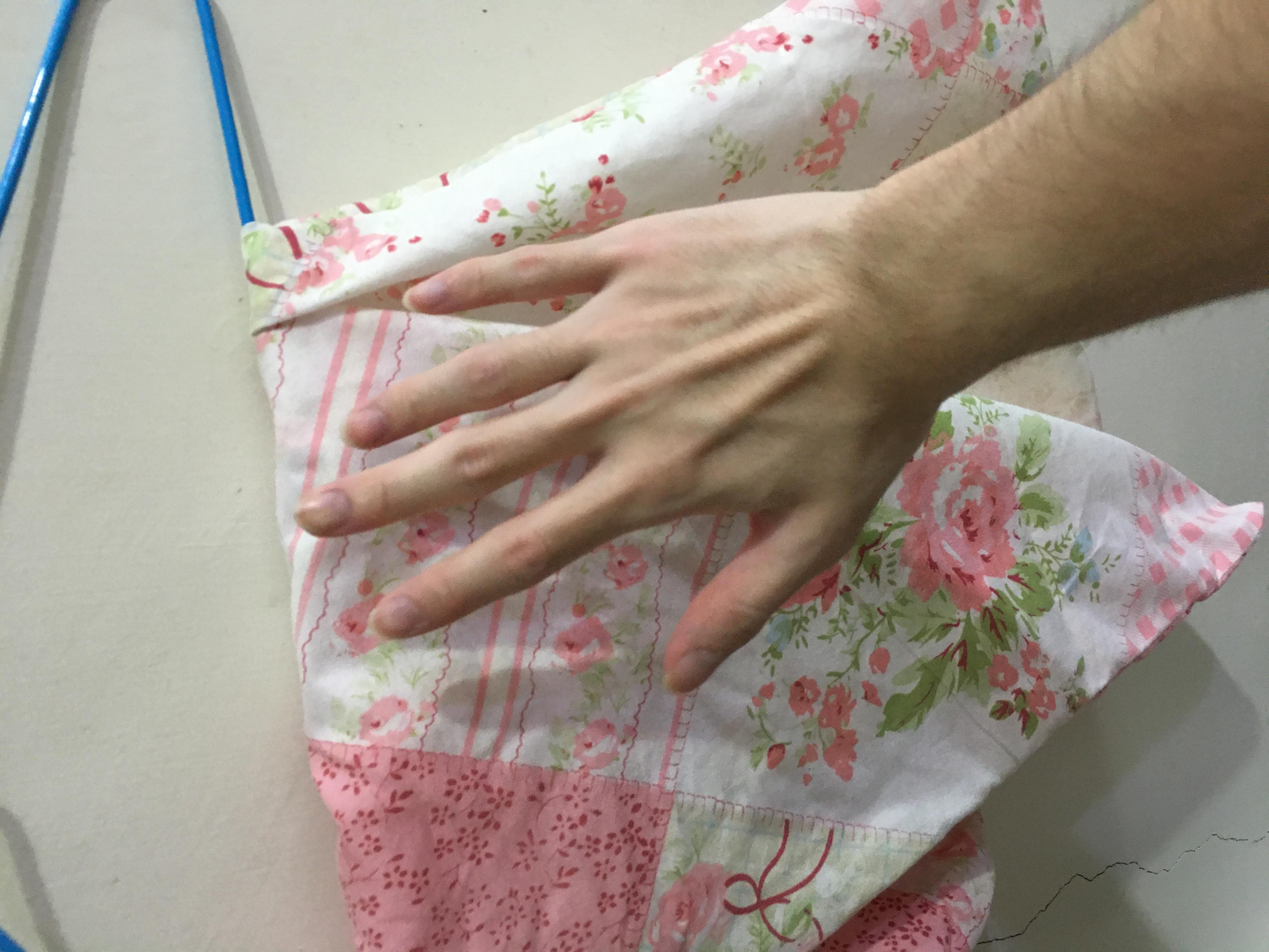palm: (341, 218, 1026, 670)
